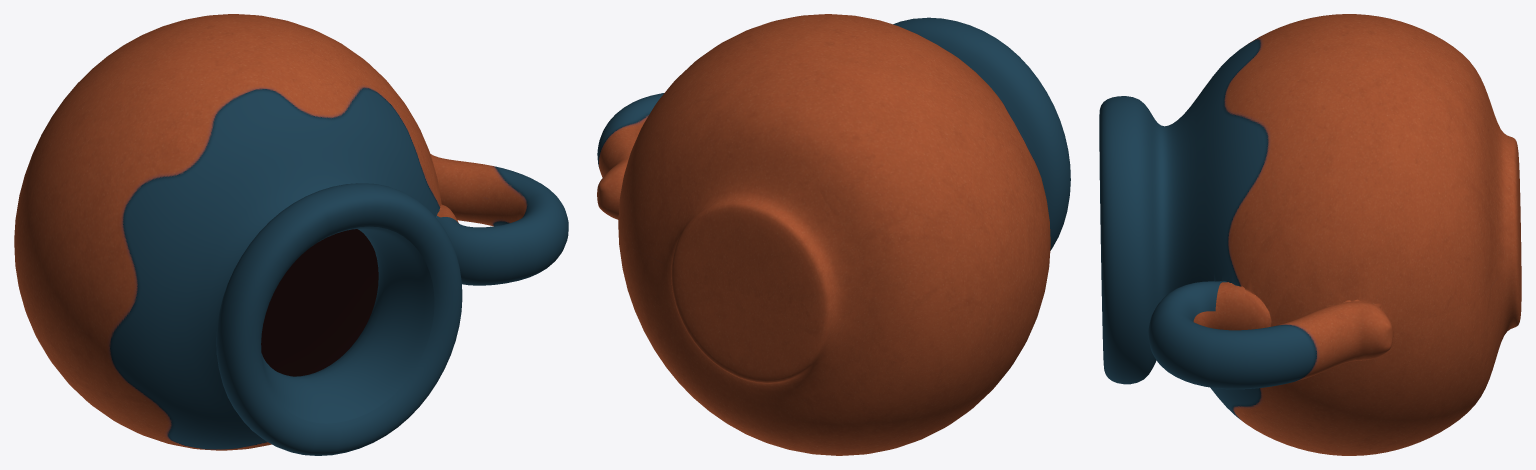
File: jarrito.glb
The picture shows the model from 3 angles, left to right: view 1: azimuth 30°, elevation 25°; view 2: azimuth 150°, elevation 25°; view 3: azimuth 270°, elevation 25°; orthographic projection.
Visible parts, largest first — view 1: jarrito; view 2: jarrito; view 3: jarrito.
Part boxes in pixels (x1,y1,x2,y2): jarrito: [14, 14, 568, 455]; jarrito: [597, 14, 1070, 455]; jarrito: [1099, 14, 1521, 455].
Bounding box in the file's own units: 0.711 × 0.589 × 0.5616.
Materials: 1 (1 with a texture image).
